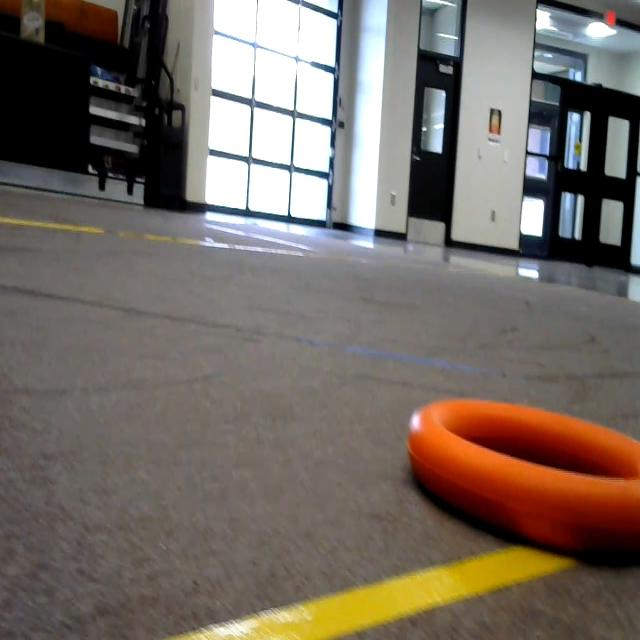note: (393, 352, 640, 573)
